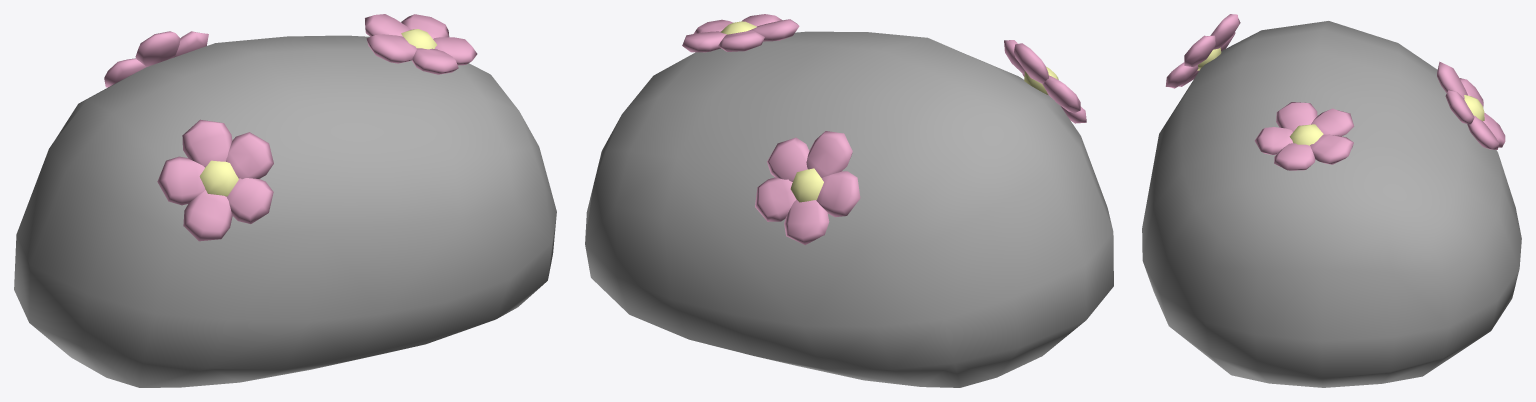
The model's file is Stone_02.fbx.
3 views of the same model, side by side, from view 1: azimuth 30°, elevation 25°; view 2: azimuth 150°, elevation 25°; view 3: azimuth 270°, elevation 25° (orthographic). The views are drawn at different scales.
Visible parts, largest first — view 1: polySurface752; view 2: polySurface752; view 3: polySurface752.
Boxes of the visible parts, x1,y1,x2,y2 form: polySurface752: (14,14,556,387); polySurface752: (585,14,1113,387); polySurface752: (1142,14,1521,387).
Bounding box in the file's own units: 66.99 × 35.59 × 50.59.
